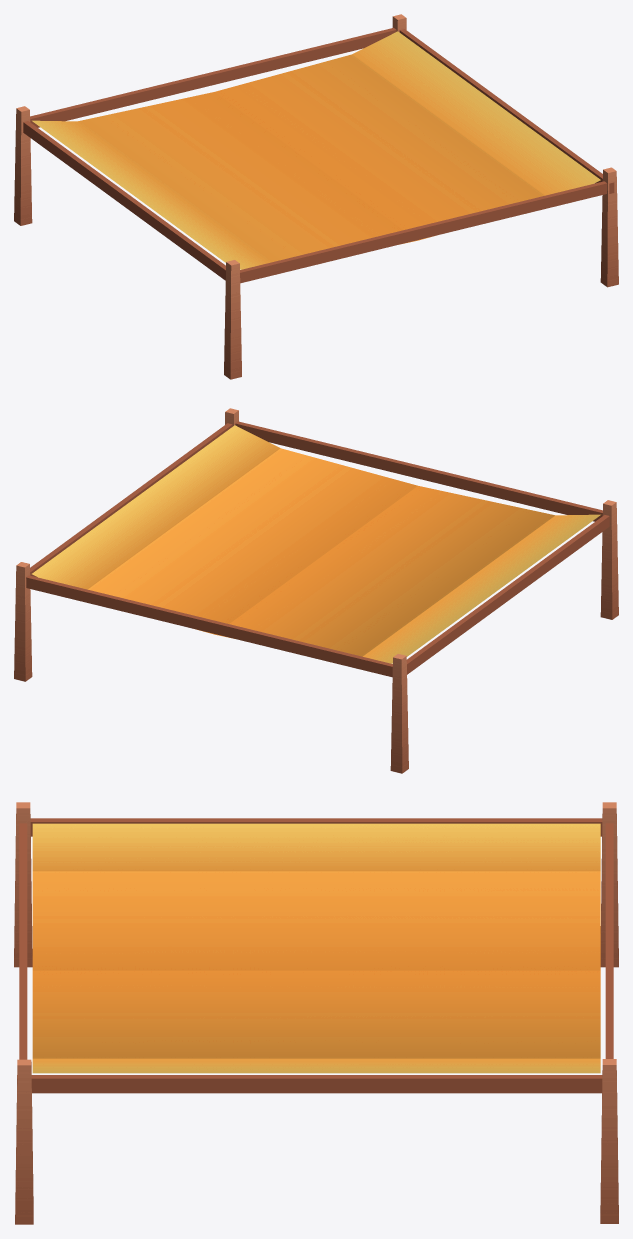
File: roof_canvas_structure$col.glb
The picture shows the model from 3 angles, top to bottom: view 1: azimuth 30°, elevation 25°; view 2: azimuth 150°, elevation 25°; view 3: azimuth 270°, elevation 25°; orthographic projection. The views are drawn at different scales.
Visible parts, largest first — view 1: canvas, arm_02, arm_01, arm_03, leg_03, leg_02, leg_04, arm_04; view 2: canvas, arm_01, arm_02, arm_03, leg_02, leg_01, leg_03, arm_04; view 3: canvas, arm_04, arm_03, leg_04, leg_01, arm_02, arm_01, leg_03, leg_02.
Boxes of the visible parts, left/top/right/bottom form: canvas: left=32, top=31, right=600, bottom=269; arm_02: left=240, top=181, right=607, bottom=283; arm_01: left=30, top=27, right=396, bottom=127; arm_03: left=23, top=121, right=225, bottom=280; leg_03: left=224, top=260, right=241, bottom=379; leg_02: left=14, top=106, right=32, bottom=225; leg_04: left=600, top=167, right=618, bottom=287; arm_04: left=399, top=29, right=614, bottom=193; canvas: left=32, top=425, right=600, bottom=663; arm_01: left=26, top=575, right=392, bottom=677; arm_02: left=235, top=421, right=602, bottom=521; arm_03: left=406, top=515, right=609, bottom=674; leg_02: left=390, top=654, right=408, bottom=773; leg_01: left=14, top=562, right=32, bottom=681; leg_03: left=600, top=500, right=618, bottom=619; arm_04: left=30, top=423, right=232, bottom=577; canvas: left=32, top=823, right=600, bottom=1073; arm_04: left=17, top=1075, right=602, bottom=1093; arm_03: left=30, top=818, right=602, bottom=836; leg_04: left=15, top=1059, right=33, bottom=1224; leg_01: left=600, top=1059, right=618, bottom=1223; arm_02: left=19, top=823, right=27, bottom=1059; arm_01: left=605, top=823, right=613, bottom=1058; leg_03: left=14, top=802, right=32, bottom=967; leg_02: left=600, top=802, right=618, bottom=967.
Size of the model in its own units: 1.8 by 0.5 by 1.73.
Materials: 6 (6 with a texture image).
